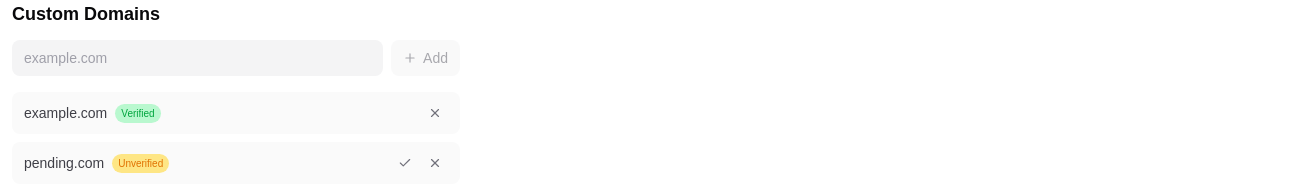
Scenario: CustomDomainsSection › removes a custom domain
Click the button named "Remove domain" in the row of "example.com": click(435, 113) [422,100,448,126]
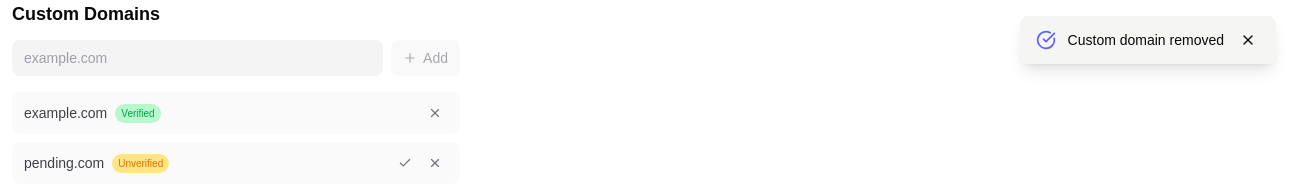
Now the text "Custom domain removed" is shown, box [1068,30,1224,50]
